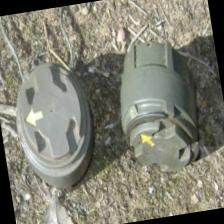M14: (114, 38, 206, 180), (10, 57, 100, 195)
